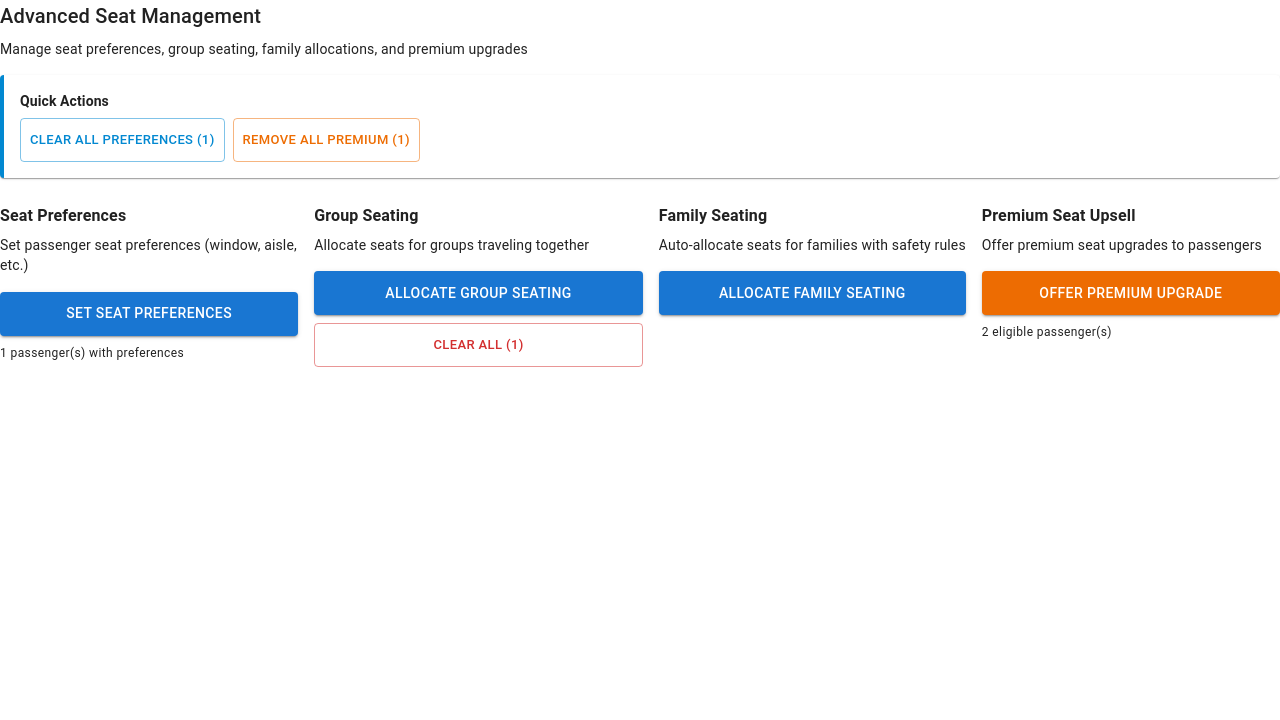
it: SeatManagementTab › Passenger Selection › should open seat preferences dialog after passenger selection
This screenshot has width=1280, height=720.
Click the button "Set Seat Preferences".
click(149, 314)  # box [0,292,298,336]
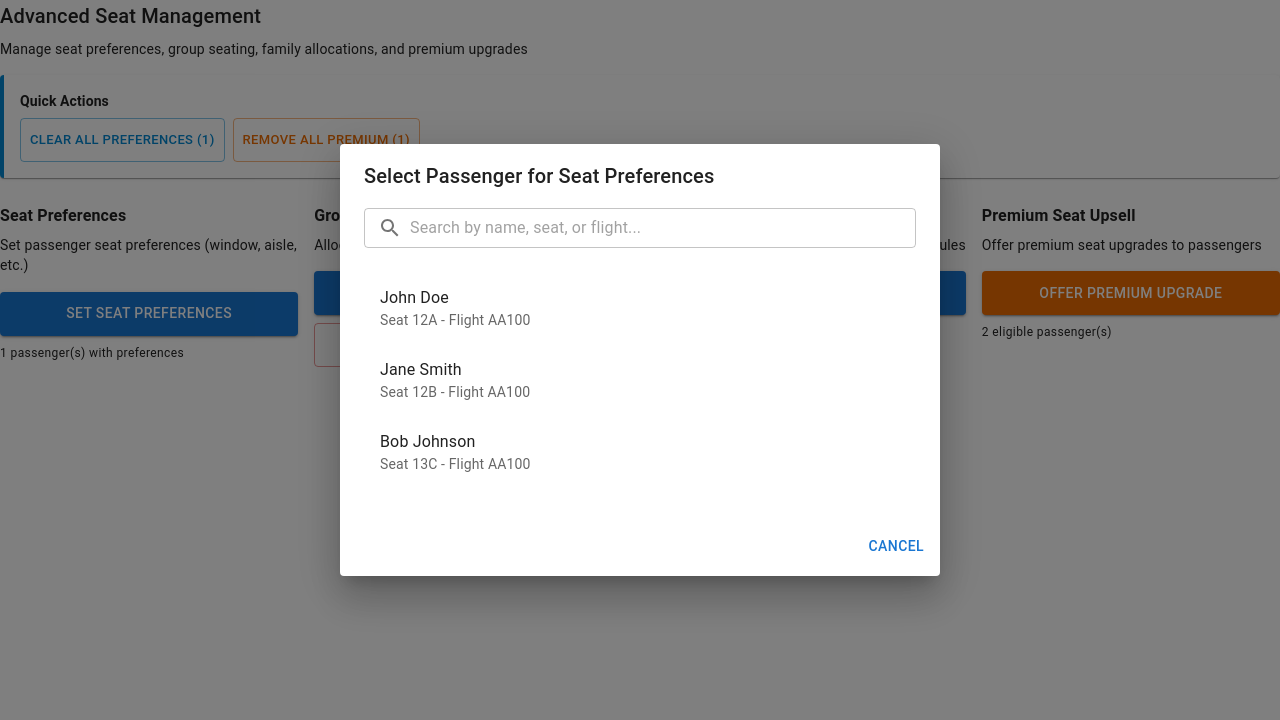
Click the text "John Doe".
click(414, 298)  # box [380,288,449,307]
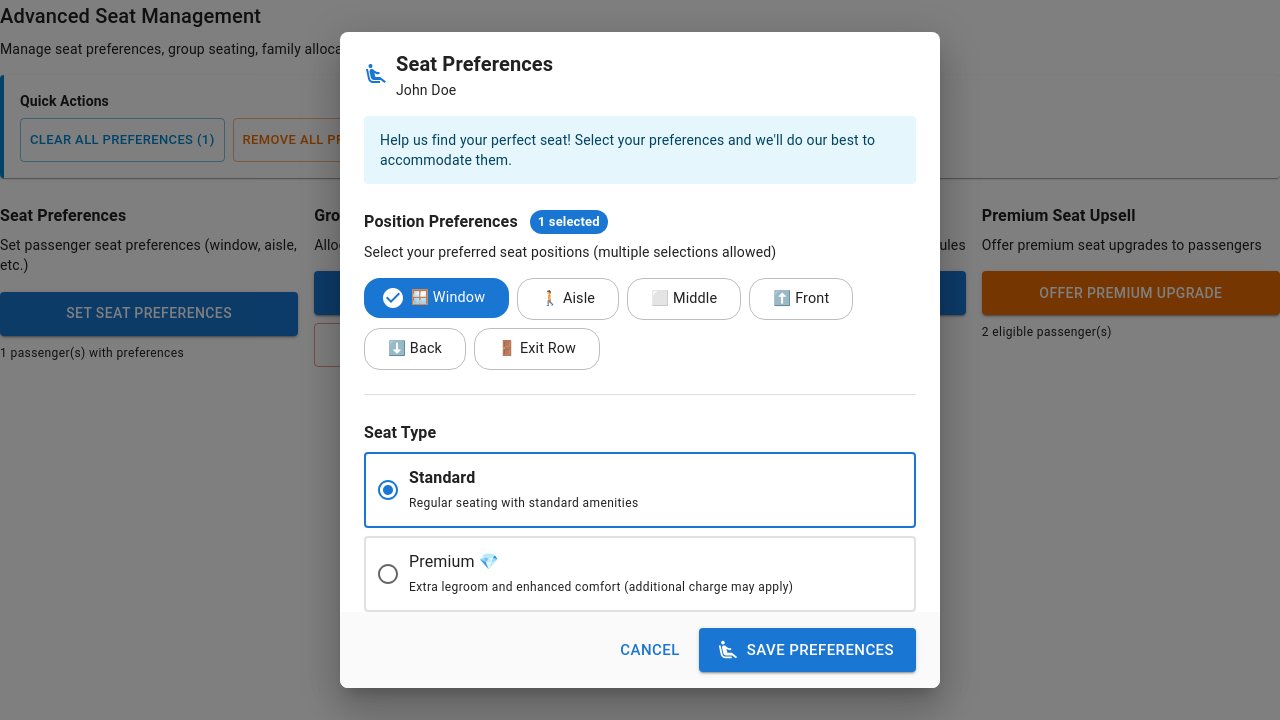
Expected: the heading "Select Passenger for Seat Preferences" is gone
